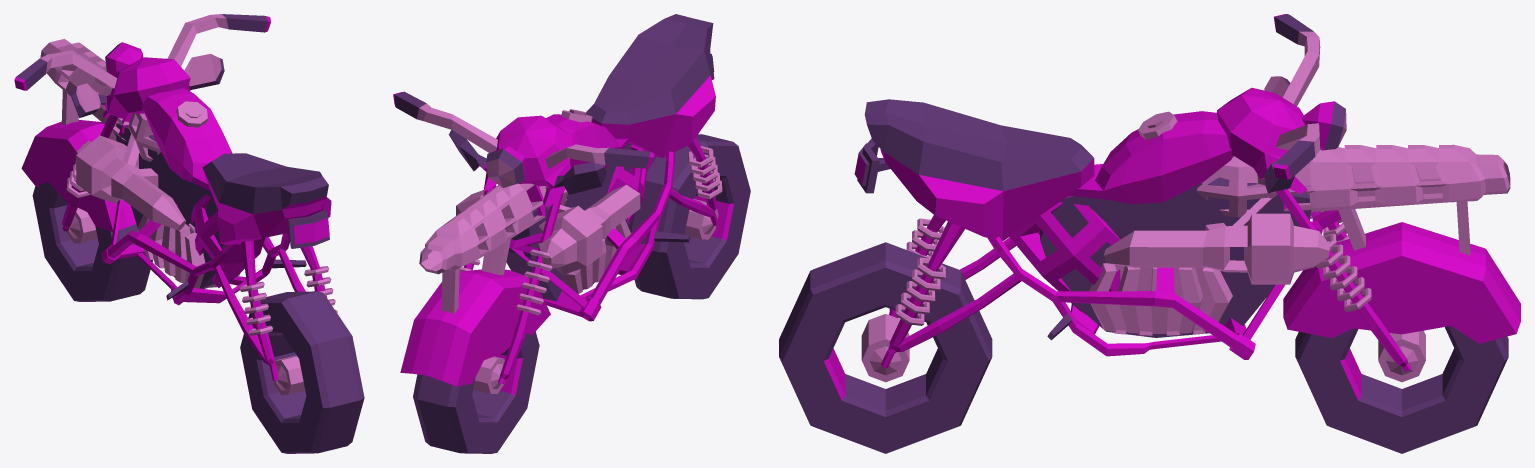
Rendered from lightCycle2.fbx.
The picture shows the model from 3 angles, left to right: view 1: azimuth 30°, elevation 25°; view 2: azimuth 150°, elevation 25°; view 3: azimuth 270°, elevation 25°; orthographic projection. The views are drawn at different scales.
Visible parts, largest first — view 1: Cylinder; view 2: Cylinder; view 3: Cylinder.
Part boxes in pixels (left/top/right/bottom): Cylinder: left=14, top=14, right=364, bottom=453; Cylinder: left=393, top=14, right=750, bottom=453; Cylinder: left=779, top=14, right=1520, bottom=453.
Bounding box in the file's own units: 456 × 491 × 919.
